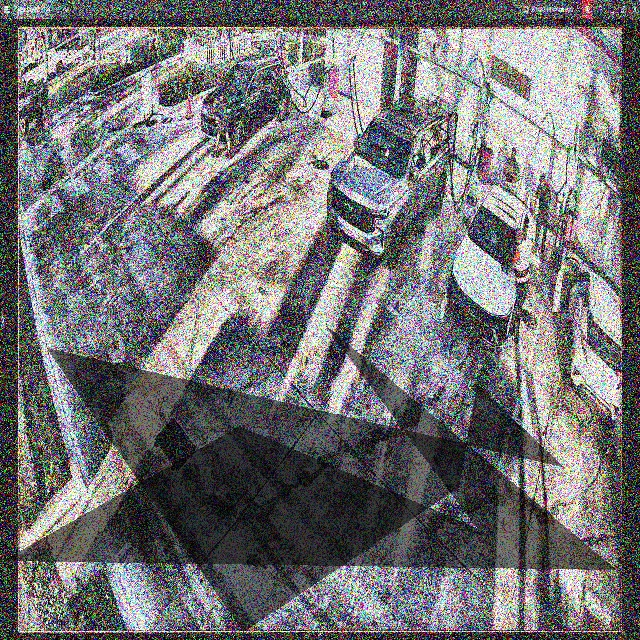Car: (327, 102, 453, 270), (447, 184, 531, 340)
